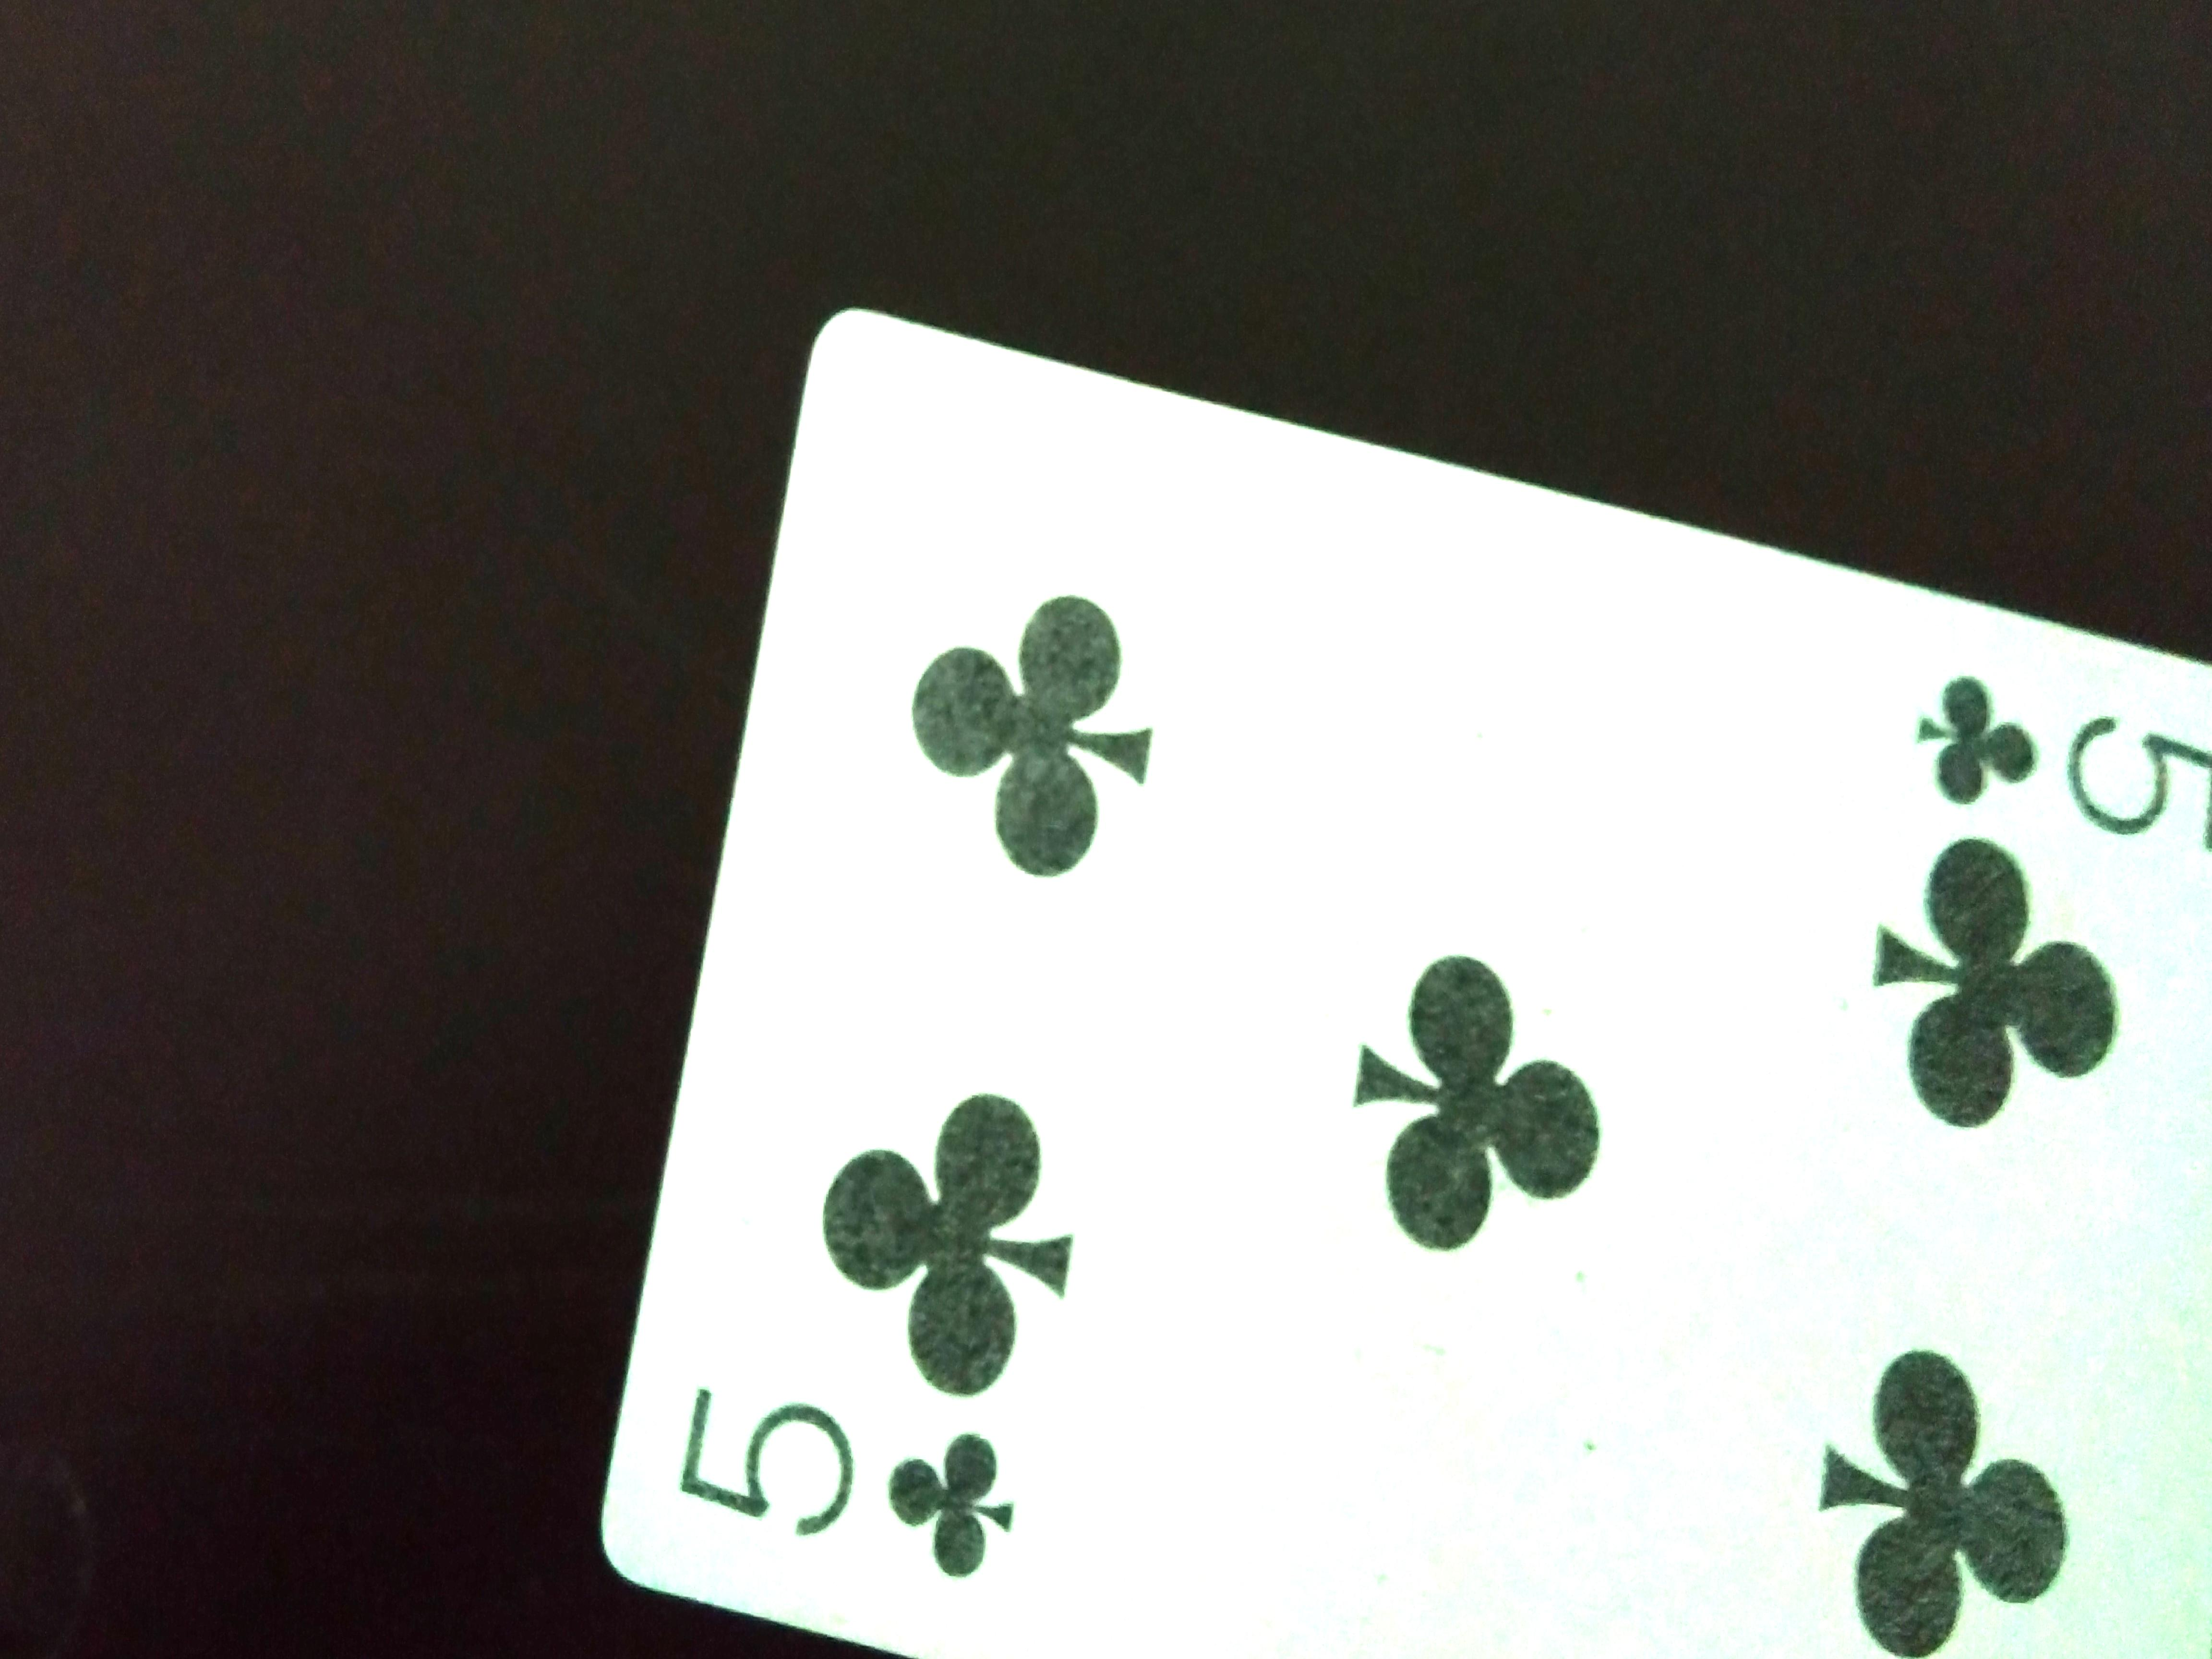5C: (641, 1363, 1050, 1577)
